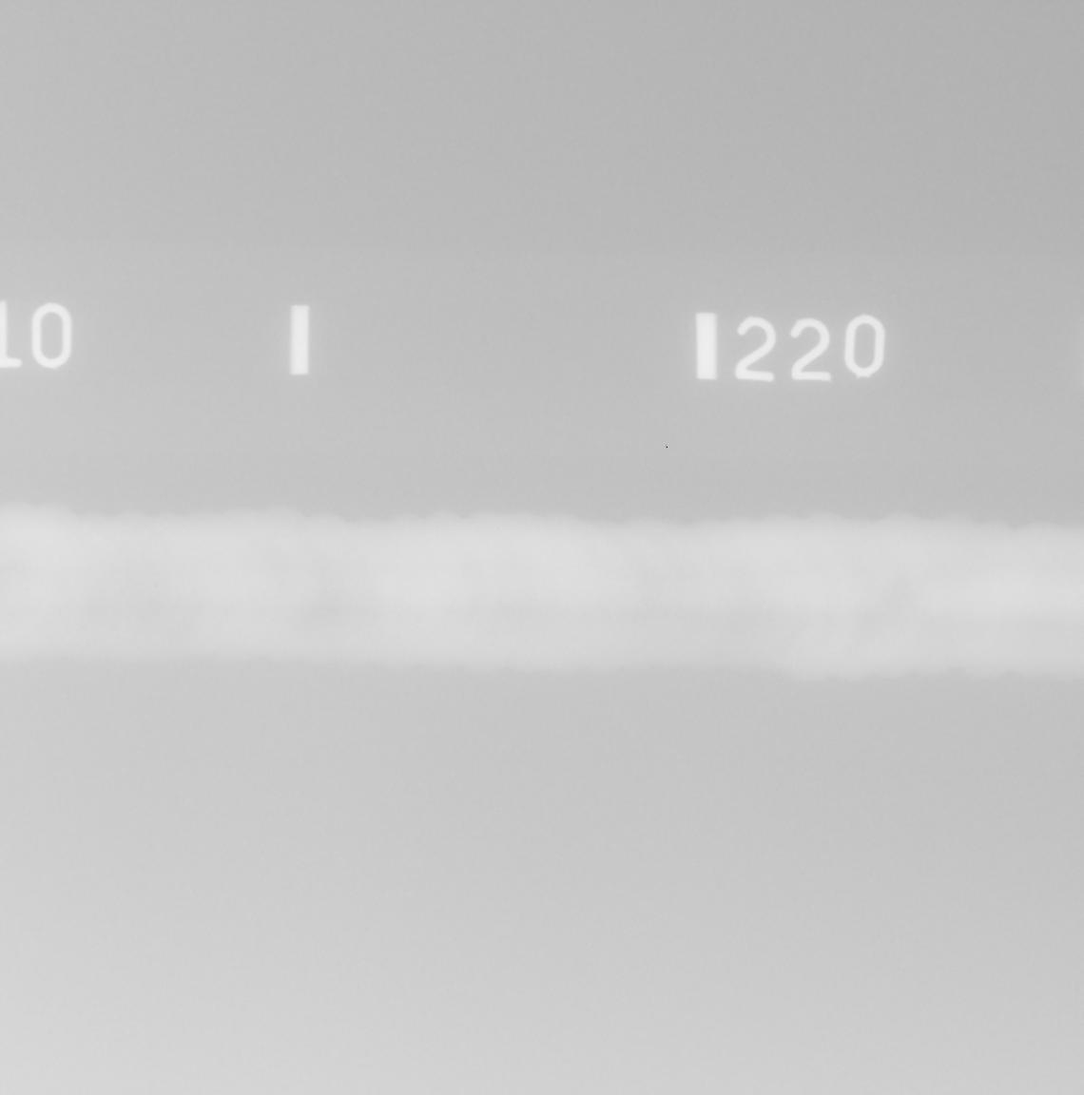Pore/Porosity: (323, 608, 337, 613), (111, 622, 116, 627), (80, 625, 84, 630), (153, 585, 157, 588), (120, 591, 123, 594)
